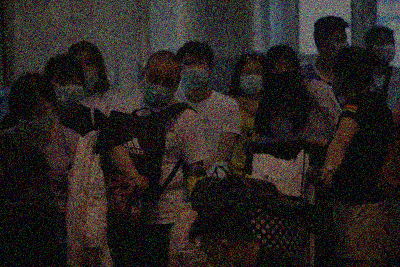mask_weared_incorrect: (72, 56, 101, 93), (199, 237, 230, 266)
with_mask: (17, 104, 55, 137), (142, 73, 177, 108), (52, 78, 86, 111), (267, 62, 298, 97), (180, 56, 210, 90), (240, 68, 264, 96), (332, 34, 350, 61), (377, 39, 396, 62)
